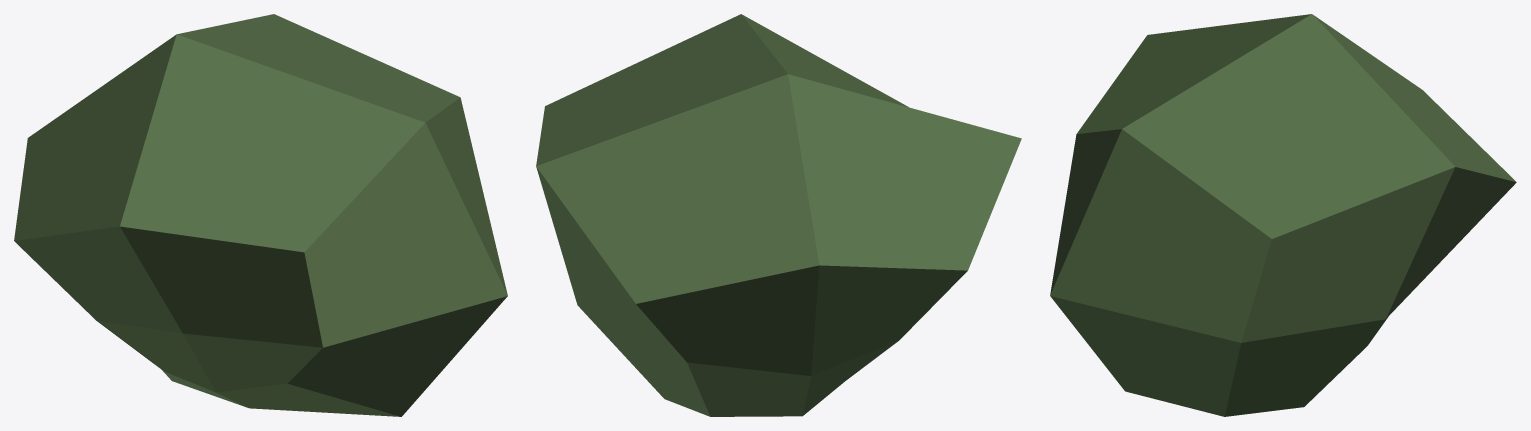
Rendered from S_BushBerriesCrop.glb.
3 views of the same model, side by side, from view 1: azimuth 30°, elevation 25°; view 2: azimuth 150°, elevation 25°; view 3: azimuth 270°, elevation 25° (orthographic). The views are drawn at different scales.
Parts seen in each view (by area): view 1: Cube_006; view 2: Cube_006; view 3: Cube_006.
Part boxes in pixels (bbox=[...]): Cube_006: bbox=[14, 14, 507, 416]; Cube_006: bbox=[536, 14, 1021, 416]; Cube_006: bbox=[1050, 14, 1516, 416].
Bounding box in the file's own units: 0.169 × 0.1317 × 0.1661.
